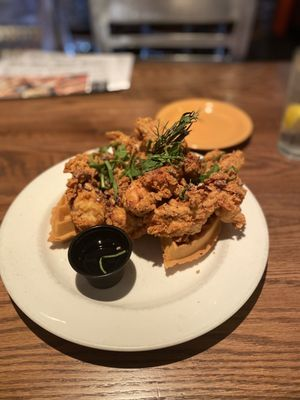pizza: (276, 45, 300, 158)
soup: (49, 114, 248, 274)
